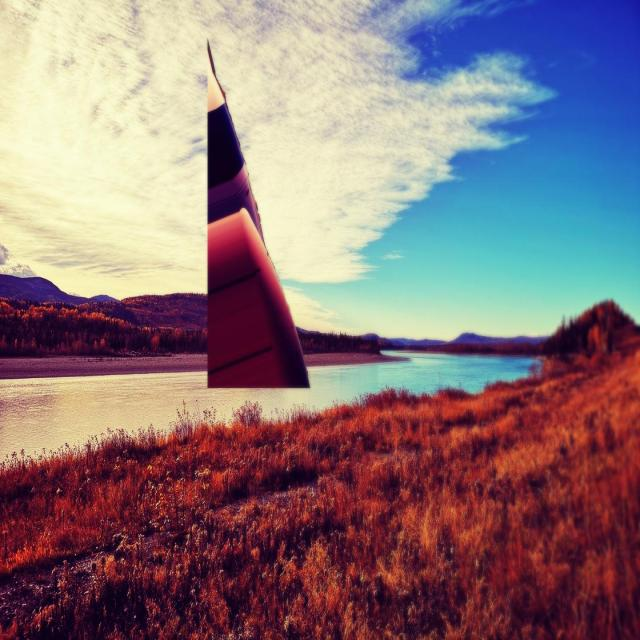airplane: (205, 38, 310, 389)
